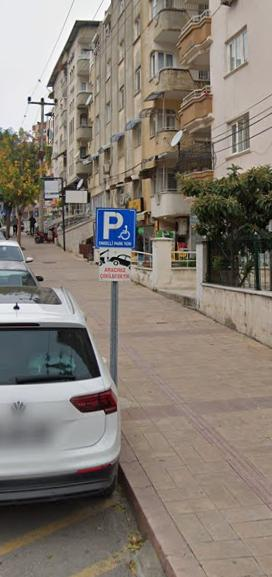disabledpark: (96, 207, 134, 243)
